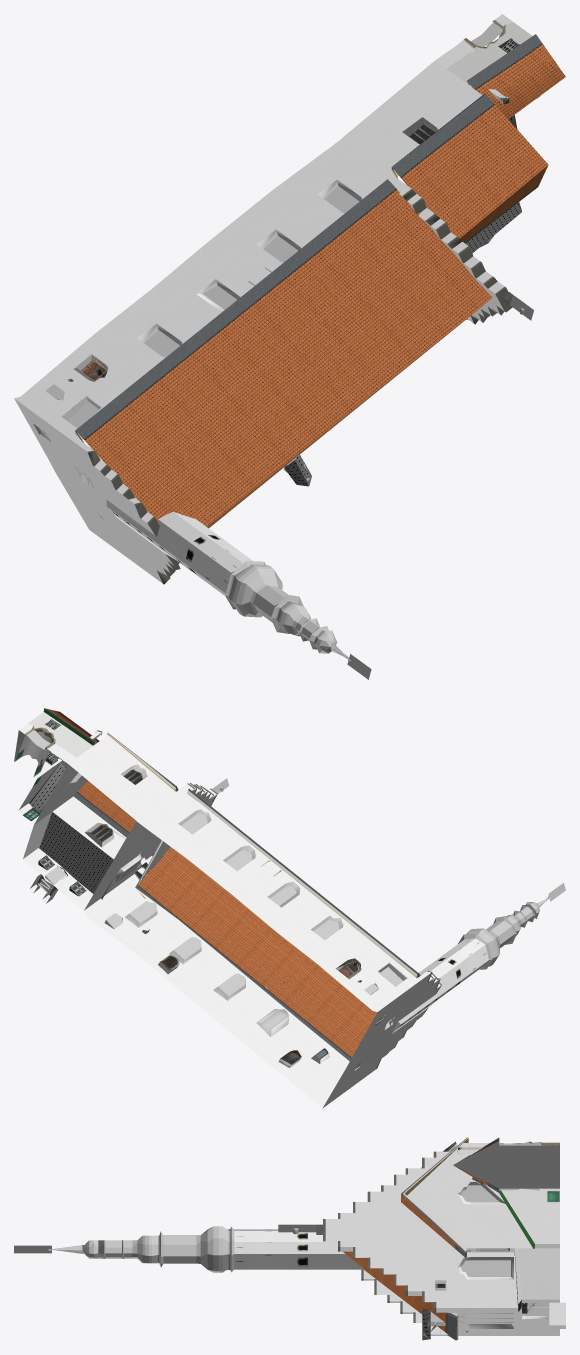
Rendered from Pyhavaimu_2_1-origo.obj.
3 renders of one model, top to bottom at view 1: azimuth 30°, elevation 25°; view 2: azimuth 150°, elevation 25°; view 3: azimuth 270°, elevation 25°, orthographic. The views are drawn at different scales.
Parts seen in each view (by area): view 1: Pyhavaimu_2_1; view 2: Pyhavaimu_2_1; view 3: Pyhavaimu_2_1.
Part boxes in pixels (box(x1,y1,x2,y2)): Pyhavaimu_2_1: box(14, 14, 565, 679); Pyhavaimu_2_1: box(14, 708, 565, 1108); Pyhavaimu_2_1: box(14, 1137, 565, 1340).
Bounding box in the file's own units: 51.88 × 42 × 56.
